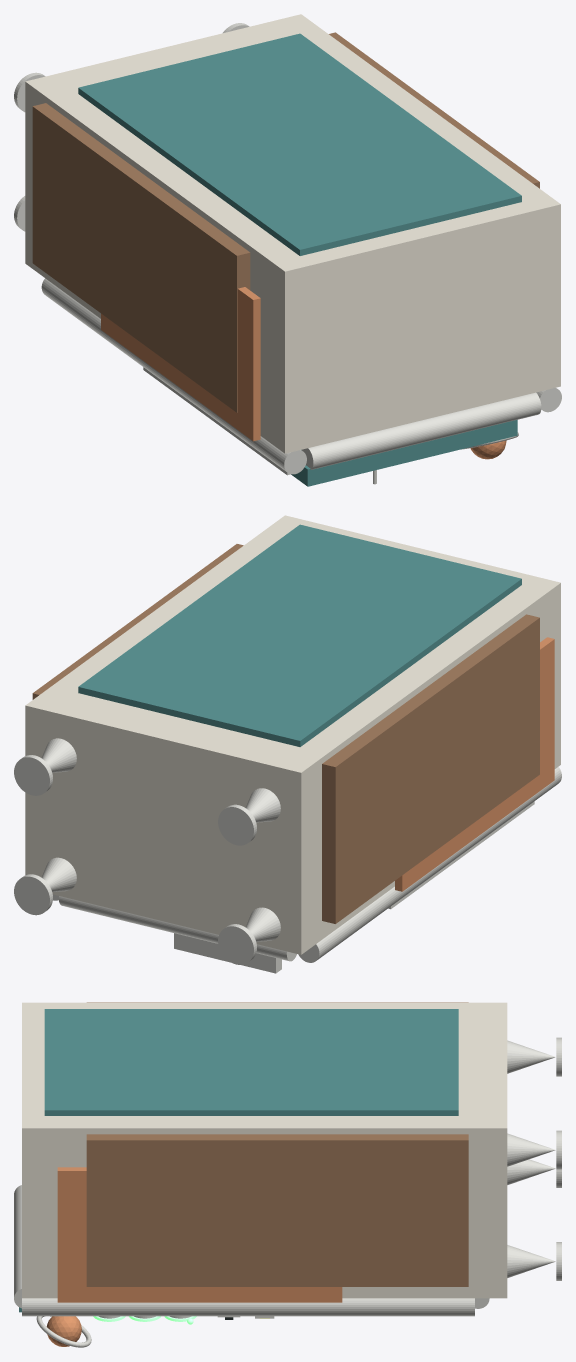
File: RetroFuture_VendingMachine_fixed.glb
The picture shows the model from 3 angles, top to bottom: view 1: azimuth 30°, elevation 25°; view 2: azimuth 150°, elevation 25°; view 3: azimuth 270°, elevation 25°; orthographic projection. The views are drawn at different scales.
Parts seen in each view (by area): view 1: Cabinet_Cream_Core, Rear_Panel, Walnut_Left, Orange_Fin_-0.49, Top_Chrome_Rail, Header_Teal, Front_Rail_-0.425, Walnut_Right; view 2: Cabinet_Cream_Core, Rear_Panel, Walnut_Left, Orange_Fin_-0.49, Front_Rail_-0.425, Bottom_Chrome_Rail, Walnut_Right, Dispense_Tray, Foot_-0.34_-0.19, Foot_-0.34_0.19, Foot_0.34_-0.19, Foot_0.34_0.19 (+4 smaller); view 3: Walnut_Right, Rear_Panel, Cabinet_Cream_Core, Orange_Fin_+0.49, Front_Rail_+0.425, Top_Chrome_Rail, Leg_0.34_0.19, Leg_-0.34_0.19, Leg_0.34_-0.19, Planet_Core, Leg_-0.34_-0.19, Planet_Ring.
Part boxes in pixels (x1,y1,x2,y2): Cabinet_Cream_Core: (25,14,560,453); Rear_Panel: (78,33,521,255); Walnut_Left: (32,103,250,412); Orange_Fin_-0.49: (101,287,260,441); Top_Chrome_Rail: (301,392,541,469); Header_Teal: (291,419,517,486); Front_Rail_-0.425: (41,278,306,474); Walnut_Right: (329,32,539,188); Cabinet_Cream_Core: (25,515,560,954); Rear_Panel: (78,524,521,746); Walnut_Left: (322,614,539,923); Orange_Fin_-0.49: (395,637,554,891); Front_Rail_-0.425: (298,767,561,962); Bottom_Chrome_Rail: (58,896,296,961); Walnut_Right: (32,544,243,699); Dispense_Tray: (174,933,281,973); Foot_-0.34_-0.19: (218,924,256,964); Foot_-0.34_0.19: (218,804,256,845); Foot_0.34_-0.19: (14,874,52,915); Foot_0.34_0.19: (14,755,52,795); Walnut_Right: (86,1134,468,1286); Rear_Panel: (44,1009,458,1115); Cabinet_Cream_Core: (22,1002,507,1298); Orange_Fin_+0.49: (57,1167,342,1302); Front_Rail_+0.425: (22,1298,474,1316); Top_Chrome_Rail: (14,1185,21,1308); Leg_0.34_0.19: (507,1133,555,1166); Leg_-0.34_0.19: (507,1040,555,1073); Leg_0.34_-0.19: (507,1245,555,1277); Planet_Core: (46,1316,81,1346); Leg_-0.34_-0.19: (507,1159,555,1184); Planet_Ring: (36,1316,91,1347).
Bounding box in the file's own units: 1.01 × 0.84 × 1.69.
